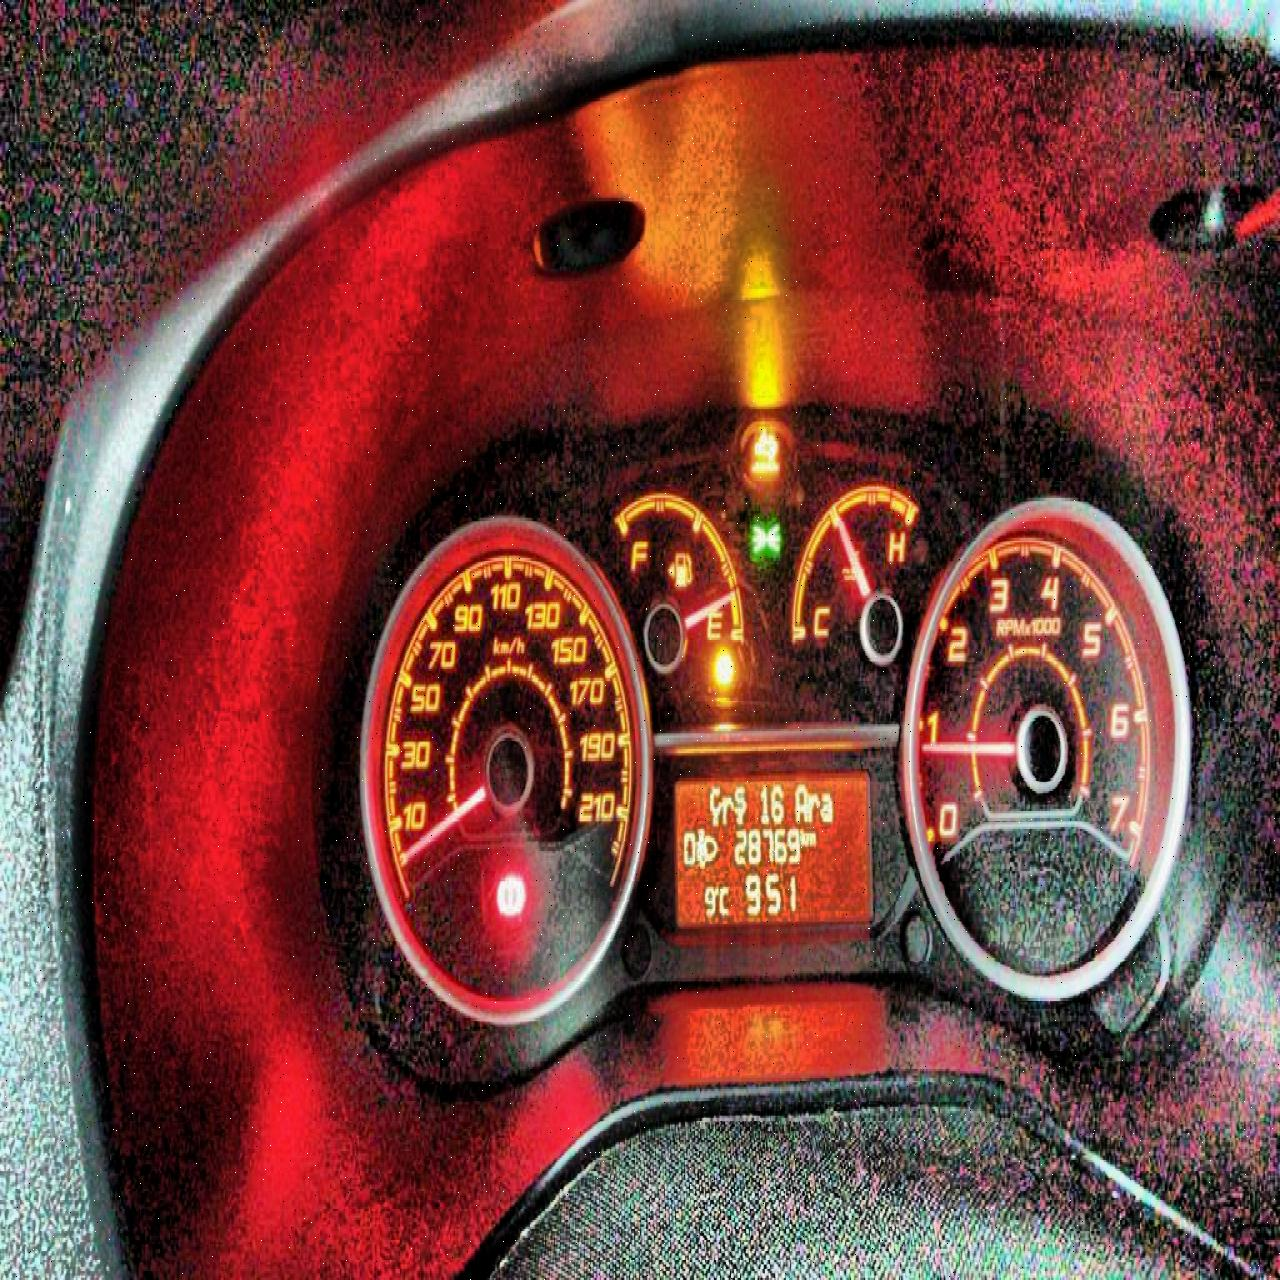0: (682, 826, 695, 866)
1: (760, 779, 769, 824), (789, 871, 796, 913)
2: (734, 826, 747, 865)
5: (764, 871, 779, 913)
6: (770, 779, 784, 822), (774, 826, 785, 863)
7: (760, 824, 772, 863)
8: (745, 824, 760, 863)
9: (744, 869, 760, 913), (787, 824, 798, 863), (704, 885, 715, 915)
X: (733, 783, 748, 824), (794, 779, 808, 821), (709, 783, 721, 824), (818, 789, 832, 821), (808, 787, 818, 821), (722, 791, 733, 825), (719, 883, 729, 915), (798, 824, 806, 846), (806, 829, 816, 844)
odometer: (672, 767, 879, 926)
